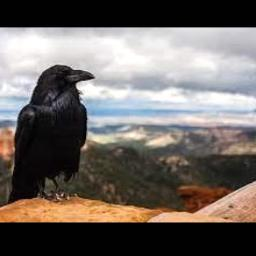Crow: (8, 64, 95, 203)
